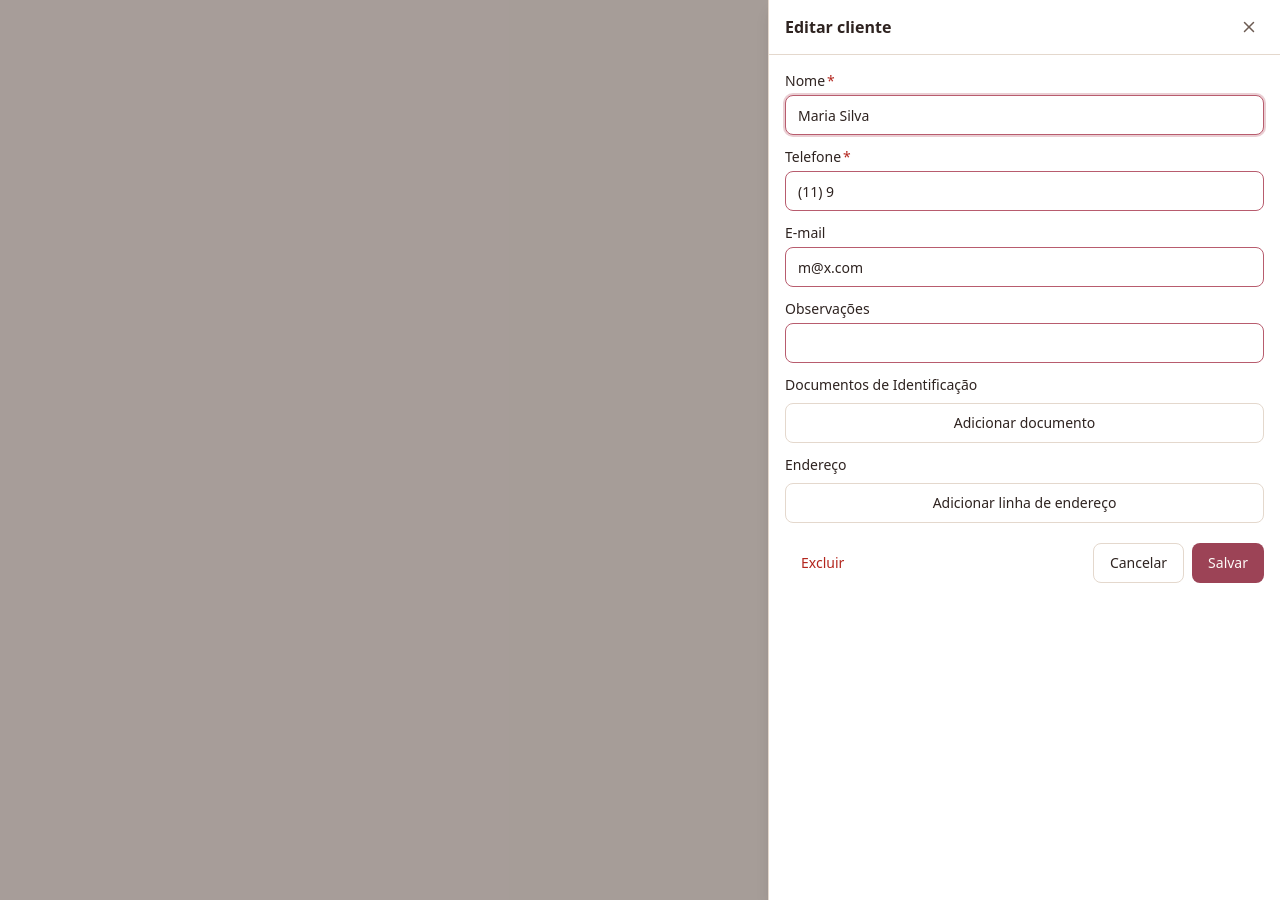
Test: ClientDrawer › asks for confirmation before deleting, and does not delete if confirmation is dismissed
The image size is (1280, 900).
Click the button "Excluir": {"x": 823, "y": 563} [785,543,860,583]
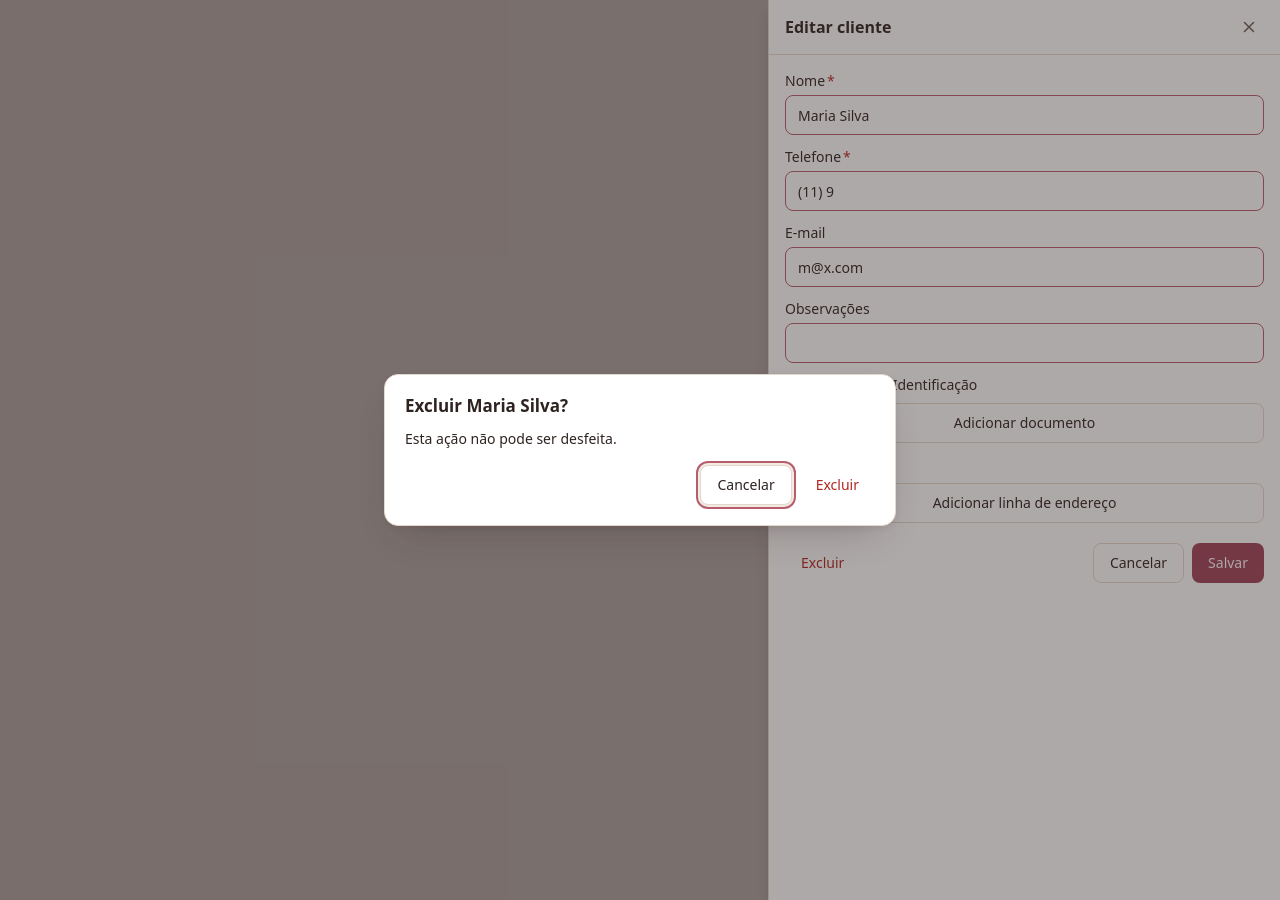
Check: the heading "Excluir Maria Silva?" is shown, box [405,394,568,417]
Press Escape
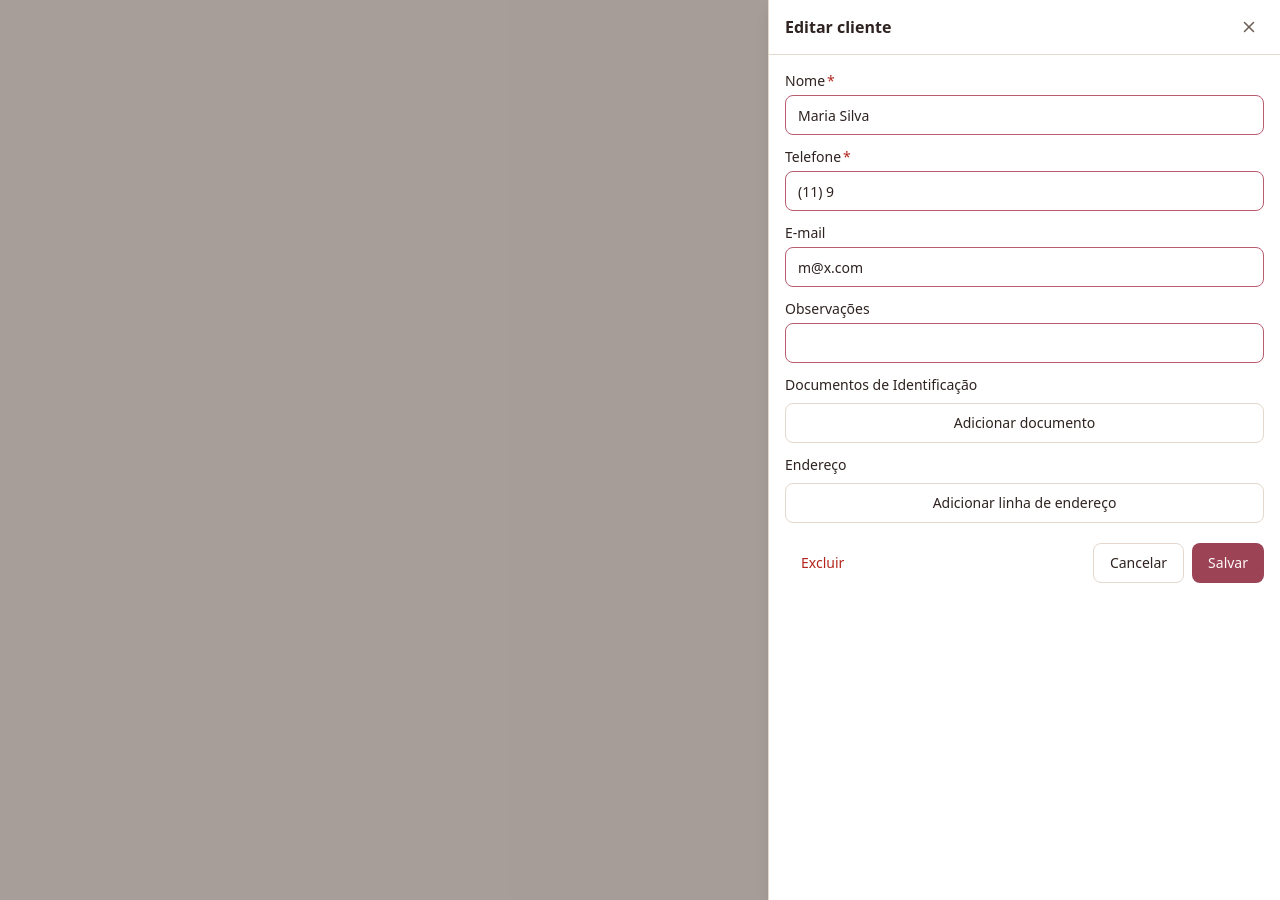
Check: the dialog "Editar cliente" is shown, box [768,0,1279,899]
Check: the heading "Excluir Maria Silva?" is gone
